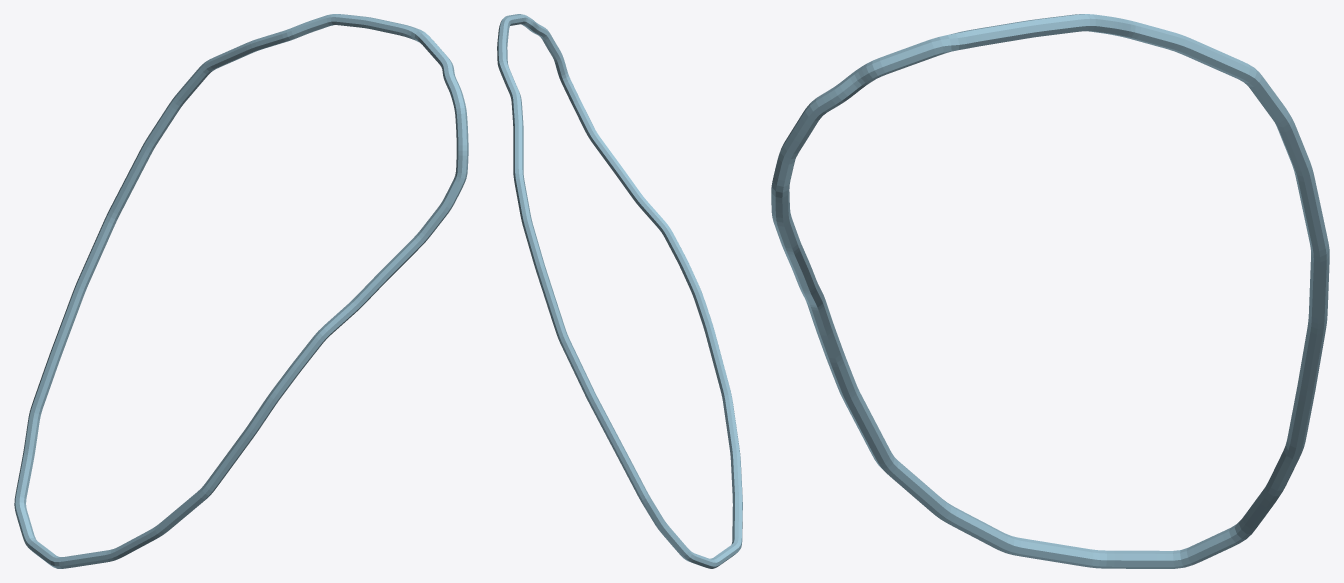
The model's file is articulacoes-zona-orbicularis-l.glb.
The picture shows the model from 3 angles, left to right: view 1: azimuth 30°, elevation 25°; view 2: azimuth 150°, elevation 25°; view 3: azimuth 270°, elevation 25°; orthographic projection. The views are drawn at different scales.
Visible parts, largest first — view 1: Zona orbicularis.l; view 2: Zona orbicularis.l; view 3: Zona orbicularis.l.
Part boxes in pixels (bbox=[...]): Zona orbicularis.l: bbox=[14, 14, 468, 568]; Zona orbicularis.l: bbox=[497, 14, 742, 568]; Zona orbicularis.l: bbox=[771, 14, 1329, 568].
Size of the model in its own units: 0.0309 by 0.045 by 0.0297.
